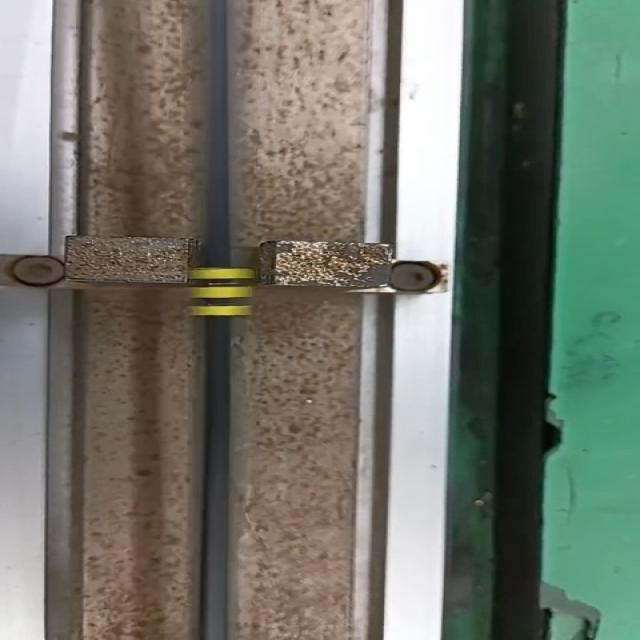yellow: (194, 267, 247, 318)
